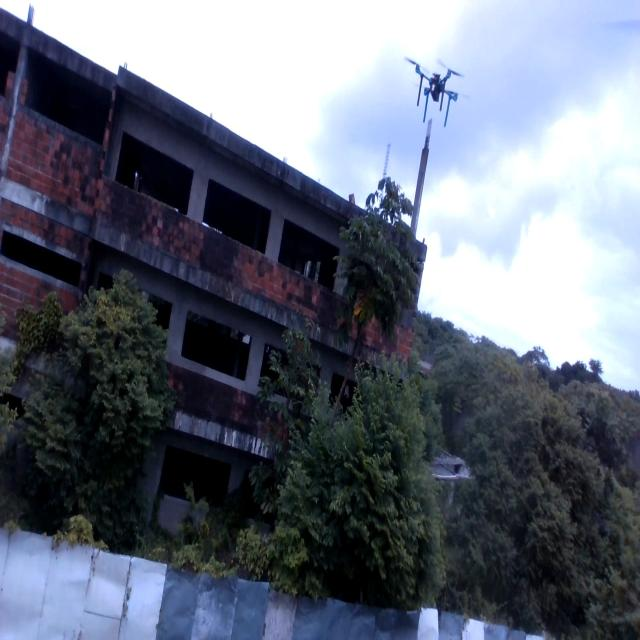-uav-: (395, 43, 474, 151)
